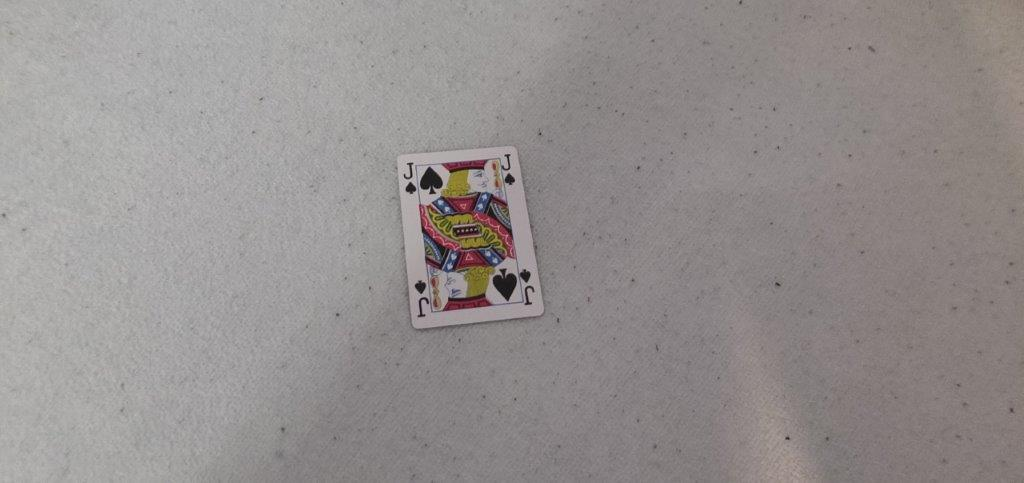JS: (398, 158, 420, 200), (496, 150, 518, 188)
